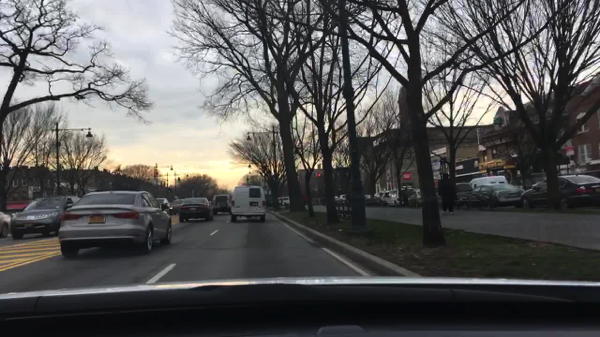car: (57, 190, 172, 258), (11, 196, 79, 241), (519, 173, 599, 211), (230, 185, 267, 222), (481, 182, 524, 210), (437, 181, 473, 208), (179, 197, 213, 224), (386, 187, 416, 207), (211, 192, 231, 217), (469, 175, 506, 188), (0, 211, 11, 239), (169, 198, 184, 215), (411, 188, 422, 206), (156, 197, 169, 211), (277, 196, 289, 207), (381, 191, 389, 206), (338, 192, 345, 202), (374, 191, 381, 200), (362, 193, 371, 199), (333, 196, 339, 203)
person: (436, 173, 458, 216), (402, 187, 411, 206), (301, 193, 308, 206)
traffic light: (245, 176, 249, 184), (176, 176, 180, 184), (317, 173, 321, 179)
